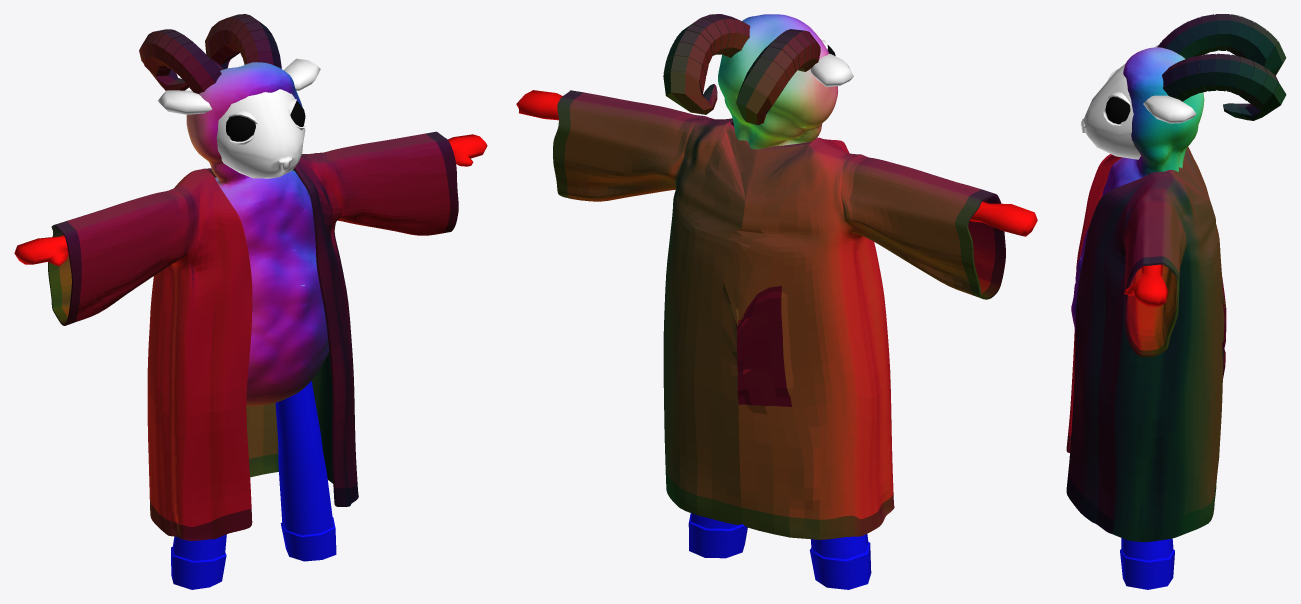
The model's file is RedSheep (1).fbx.
3 views of the same model, side by side, from view 1: azimuth 30°, elevation 25°; view 2: azimuth 150°, elevation 25°; view 3: azimuth 270°, elevation 25° (orthographic). The views are drawn at different scales.
Parts seen in each view (by area): view 1: robes.001, Mball.001, Arms & Legs.001, Head.001, Horn 1, Horn 2, Ears.001, Eyeballs.001; view 2: robes.001, Mball.001, Arms & Legs.001, Horn 2, Horn 1, Ears.001; view 3: robes.001, Mball.001, Horn 2, Horn 1, Arms & Legs.001, Head.001, Ears.001, Eyeballs.001.
Part boxes in pixels (x1,y1,x2,y2): robes.001: [48, 131, 458, 540]; Mball.001: [186, 62, 329, 406]; Arms & Legs.001: [14, 134, 487, 589]; Head.001: [216, 89, 305, 178]; Horn 1: [139, 29, 221, 93]; Horn 2: [205, 14, 281, 70]; Ears.001: [158, 58, 320, 114]; Eyeballs.001: [226, 101, 305, 141]; robes.001: [553, 90, 1005, 539]; Mball.001: [718, 14, 837, 149]; Arms & Legs.001: [516, 90, 1037, 589]; Horn 2: [663, 14, 750, 114]; Horn 1: [736, 29, 820, 125]; Ears.001: [674, 40, 853, 87]; robes.001: [1066, 146, 1226, 542]; Mball.001: [1071, 47, 1204, 332]; Horn 2: [1162, 53, 1286, 120]; Horn 1: [1157, 14, 1286, 75]; Arms & Legs.001: [1120, 264, 1174, 589]; Head.001: [1081, 63, 1140, 159]; Ears.001: [1143, 45, 1196, 123]; Eyeballs.001: [1105, 96, 1130, 124].
Size of the model in its own units: 165 by 173 by 67.14.
